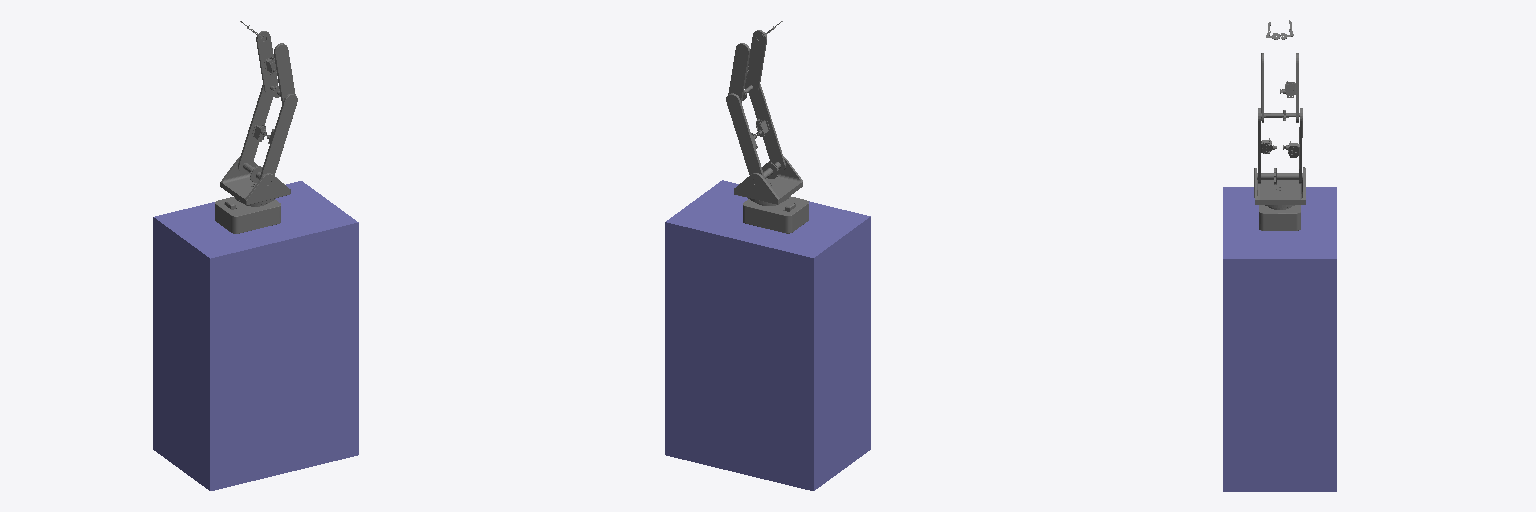
The robot description file, URDF, robot "four_dof_manipulator":
<?xml version="1.0" encoding="utf-8"?>

<robot name="four_dof_manipulator">
  
  <!--Fixed the table to the ground(world)-->
  <link name="world" />

  <!-- Table -->
  <link name="table">
    <visual>
      <origin rpy="0 0 0" xyz="0 -0.2 0"/>
      <geometry>
        <box size="0.6 0.4 0.9"/>
      </geometry>
      <material name="grey">
        <color rgba="0.5 0.5 0.75 1"/>
      </material>
    </visual>
  </link>

  <!-- World-Table joint-->
  <joint name="fixed" type="fixed">
    <parent link="world"/>
    <child link="table"/>
    <origin xyz="0.0 0.0 0.450" rpy="0.0 0.0 0.0" />
  </joint>

  <link name="base_link">
    <inertial>
      <origin
        xyz="-0.0330941580739677 -0.199915714499144 -0.0238474252824564"
        rpy="0 0 0" />
      <mass
        value="1.21592569506171" />
      <inertia
        ixx="0.00319394143397767"
        ixy="6.50916537053405E-06"
        ixz="5.00849983752122E-05"
        iyy="0.00517355396442031"
        iyz="-2.59154797593509E-06"
        izz="0.00752990865416603" />
    </inertial>
    <visual>
      <origin
        xyz="0 0 0"
        rpy="0 0 0" />
      <geometry>
        <mesh
          filename="package://four_dof_manipulator/meshes/base_link.STL" />
      </geometry>
      <material
        name="">
        <color
          rgba="0.5 0.5 0.5 1" />
      </material>
    </visual>
    <collision>
      <origin
        xyz="0 0 0"
        rpy="0 0 0" />
      <geometry>
        <mesh
          filename="package://four_dof_manipulator/meshes/base_link.STL" />
      </geometry>
    </collision>
  </link>
  
  <!--Table-Base Joint-->
  <joint name="table_joint" type="fixed">
    <parent link="table"/>
    <child link="base_link"/>
    <origin xyz="0.0 0.0 0.518" rpy="0.0 0.0 0.0" />
  </joint>
  
  <!--joint name="fixed_joint" type="fixed">
    <parent link="world"/>
    <child link="base_link"/>
    <origin xyz="0.0 0.0 0.518" rpy="0.0 0.0 0.0" />
  </joint-->

  <link
    name="first_link">
    <inertial>
      <origin
        xyz="-7.33788030338189E-16 5.55111512312578E-17 -0.0544923827293373"
        rpy="0 0 0" />
      <mass
        value="1.20713988278658" />
      <inertia
        ixx="0.00387509235916713"
        ixy="1.0875136639203E-10"
        ixz="2.90490271371626E-17"
        iyy="0.00304586202042799"
        iyz="2.15933858679175E-18"
        izz="0.00589439778201493" />
    </inertial>
    <visual>
      <origin
        xyz="0 0 0"
        rpy="0 0 0" />
      <geometry>
        <mesh
          filename="package://four_dof_manipulator/meshes/first_link.STL" />
      </geometry>
      <material
        name="">
        <color
          rgba="0.5 0.5 0.5 1" />
      </material>
    </visual>
    <collision>
      <origin
        xyz="0 0 0"
        rpy="0 0 0" />
      <geometry>
        <mesh
          filename="package://four_dof_manipulator/meshes/first_link.STL" />
      </geometry>
    </collision>
  </link>
  
  <joint
    name="joint_1"
    type="revolute">
    <origin
      xyz="-0.00208795693759905 -0.199999999999975 -0.00419080295344085"
      rpy="-3.14159265358979 0 0.0110713534620342" />
    <parent
      link="base_link" />
    <child
      link="first_link" />
    <axis
      xyz="0 0 -1" />
    <limit
      lower="-1.5707963268"
      upper="1.5707963268"
      effort="500"
      velocity="2" />
  </joint>
  <transmission name="tran1">
    <type>transmission_interface/SimpleTransmission</type>
    <joint name="joint_1">
      <hardwareInterface>PositionJointInterface</hardwareInterface>
    </joint>
    <actuator name="motor1">
      <hardwareInterface>PositionJointInterface</hardwareInterface>
      <mechanicalReduction>1</mechanicalReduction>
    </actuator>
  </transmission>
  
  <link
    name="second_link">
    <inertial>
      <origin
        xyz="0.122656869389677 -0.000401462272982094 0.0686321634800344"
        rpy="0 0 0" />
      <mass
        value="0.564197355185099" />
      <inertia
        ixx="0.00247734722871887"
        ixy="4.32451514645994E-06"
        ixz="1.43966218295339E-06"
        iyy="0.00767638543625201"
        iyz="-1.39190385070749E-07"
        izz="0.0053992835651082" />
    </inertial>
    <visual>
      <origin
        xyz="0 0 0"
        rpy="0 0 0" />
      <geometry>
        <mesh
          filename="package://four_dof_manipulator/meshes/second_link.STL" />
      </geometry>
      <material
        name="">
        <color
          rgba="0.5 0.5 0.5 1" />
      </material>
    </visual>
    <collision>
      <origin
        xyz="0 0 0"
        rpy="0 0 0" />
      <geometry>
        <mesh
          filename="package://four_dof_manipulator/meshes/second_link.STL" />
      </geometry>
    </collision>
  </link>
  
  <joint
    name="joint_2"
    type="revolute">
    <origin
      xyz="0 -0.0680000000000001 -0.117000000000003"
      rpy="-1.5707963267949 1.23097997933017 0" />
    <parent
      link="first_link" />
    <child
      link="second_link" />
    <axis
      xyz="0 0 1" />
    <limit
      lower="-1.2217304764"
      upper="1.9198621772"
      effort="500"
      velocity="2" />
  </joint>
  <transmission name="tran2">
    <type>transmission_interface/SimpleTransmission</type>
    <joint name="joint_2">
      <hardwareInterface>PositionJointInterface</hardwareInterface>
    </joint>
    <actuator name="motor2">
      <hardwareInterface>PositionJointInterface</hardwareInterface>
      <mechanicalReduction>1</mechanicalReduction>
    </actuator>
  </transmission>


  <link
    name="third_link">
    <inertial>
      <origin
        xyz="0.089483369514526 0.000333185437360051 0.0616705943939753"
        rpy="0 0 0" />
      <mass
        value="0.341491453338833" />
      <inertia
        ixx="0.0011223536458998"
        ixy="-8.94838519701279E-07"
        ixz="4.50772424468417E-07"
        iyy="0.00260413334203537"
        iyz="-3.46258625510181E-06"
        izz="0.00161078736660313" />
    </inertial>
    <visual>
      <origin
        xyz="0 0 0"
        rpy="0 0 0" />
      <geometry>
        <mesh
          filename="package://four_dof_manipulator/meshes/third_link.STL" />
      </geometry>
      <material
        name="">
        <color
          rgba="0.5 0.5 0.5 1" />
      </material>
    </visual>
    <collision>
      <origin
        xyz="0 0 0"
        rpy="0 0 0" />
      <geometry>
        <mesh
          filename="package://four_dof_manipulator/meshes/third_link.STL" />
      </geometry>
    </collision>
  </link>
  
  <joint
    name="joint_3"
    type="revolute">
    <origin
      xyz="0.3 0 0.124"
      rpy="-3.1416 0 -1.5068" />
    <parent
      link="second_link" />
    <child
      link="third_link" />
    <axis
      xyz="0 0 -1" />
    <limit
      lower="-6.2831853072"
      upper="-2.2689280276"
      effort="500"
      velocity="2" />
  </joint>
  <transmission name="tran3">
    <type>transmission_interface/SimpleTransmission</type>
    <joint name="joint_3">
      <hardwareInterface>PositionJointInterface</hardwareInterface>
    </joint>
    <actuator name="motor3">
      <hardwareInterface>PositionJointInterface</hardwareInterface>
      <mechanicalReduction>1</mechanicalReduction>
    </actuator>
  </transmission>

  <link
    name="fourth_link">
    <inertial>
      <origin
        xyz="-0.0560452574719653 -0.00176057766334337 0.032176511601107"
        rpy="0 0 0" />
      <mass
        value="0.114529356723246" />
      <inertia
        ixx="0.000111734436978805"
        ixy="4.99245419880645E-07"
        ixz="-2.76231736304427E-06"
        iyy="0.00022500515976646"
        iyz="8.28933809672081E-06"
        izz="0.000134457409408795" />
    </inertial>
    <visual>
      <origin
        xyz="0 0 0"
        rpy="0 0 0" />
      <geometry>
        <mesh
          filename="package://four_dof_manipulator/meshes/fourth_link.STL" />
      </geometry>
      <material
        name="">
        <color
          rgba="0.5 0.5 0.5 1" />
      </material>
    </visual>
    <collision>
      <origin
        xyz="0 0 0"
        rpy="0 0 0" />
      <geometry>
        <mesh
          filename="package://four_dof_manipulator/meshes/fourth_link.STL" />
      </geometry>
    </collision>
  </link>
  
  <joint
    name="joint_4"
    type="revolute">
    <origin
      xyz="0.2 0 0"
      rpy="0.645832947767902 1.5707963267949 0" />
    <parent
      link="third_link" />
    <child
      link="fourth_link" />
    <axis
      xyz="1 0 0" />
    <limit
      lower="-2.4434609528"
      upper="0.6981317008"
      effort="500"
      velocity="2" />
  </joint>
  <transmission name="tran4">
    <type>transmission_interface/SimpleTransmission</type>
    <joint name="joint_4">
      <hardwareInterface>PositionJointInterface</hardwareInterface>
    </joint>
    <actuator name="motor4">
      <hardwareInterface>PositionJointInterface</hardwareInterface>
      <mechanicalReduction>1</mechanicalReduction>
    </actuator>
  </transmission>

  <link
    name="finger_1">
    <inertial>
      <origin
        xyz="0.00282720923007229 -0.0089833380786894 -0.013398634163815"
        rpy="0 0 0" />
      <mass
        value="0.00371707887588344" />
      <inertia
        ixx="1.64310670558568E-06"
        ixy="5.58574550305456E-08"
        ixz="5.5107391747783E-08"
        iyy="6.80812992057786E-07"
        iyz="-2.48704436102216E-07"
        izz="9.91223946918196E-07" />
    </inertial>
    <visual>
      <origin
        xyz="0 0 0"
        rpy="0 0 0" />
      <geometry>
        <mesh
          filename="package://four_dof_manipulator/meshes/finger_1.STL" />
      </geometry>
      <material
        name="">
        <color
          rgba="0.5 0.5 0.5 1" />
      </material>
    </visual>
    <collision>
      <origin
        xyz="0 0 0"
        rpy="0 0 0" />
      <geometry>
        <mesh
          filename="package://four_dof_manipulator/meshes/finger_1.STL" />
      </geometry>
    </collision>
  </link>
  
  <joint
    name="finger1"
    type="revolute">
    <origin
      xyz="-0.0425 -0.006 0.092879"
      rpy="-1.4841 0 1.5708" />
    <parent
      link="fourth_link" />
    <child
      link="finger_1" />
    <axis
      xyz="1 0 0" />
    <limit
      lower="-0.3"
      upper="0.3"
      effort="500"
      velocity="2" />
  </joint>
  <transmission name="tran5">
    <type>transmission_interface/SimpleTransmission</type>
    <joint name="finger1">
      <hardwareInterface>PositionJointInterface</hardwareInterface>
    </joint>
    <actuator name="motor5">
      <hardwareInterface>PositionJointInterface</hardwareInterface>
      <mechanicalReduction>1</mechanicalReduction>
    </actuator>
  </transmission>
  
  <link
    name="finger_2">
    <inertial>
      <origin
        xyz="0.00289148529339028 0.0121811563371869 -0.0146481318195793"
        rpy="0 0 0" />
      <mass
        value="0.00354537803339804" />
      <inertia
        ixx="1.74994302714652E-06"
        ixy="-6.22948659843265E-08"
        ixz="5.59005929626654E-08"
        iyy="6.71188757891809E-07"
        iyz="3.71484217485297E-07"
        izz="1.10679275985386E-06" />
    </inertial>
    <visual>
      <origin
        xyz="0 0 0"
        rpy="0 0 0" />
      <geometry>
        <mesh
          filename="package://four_dof_manipulator/meshes/finger_2.STL" />
      </geometry>
      <material
        name="">
        <color
          rgba="0.5 0.5 0.5 1" />
      </material>
    </visual>
    <collision>
      <origin
        xyz="0 0 0"
        rpy="0 0 0" />
      <geometry>
        <mesh
          filename="package://four_dof_manipulator/meshes/finger_2.STL" />
      </geometry>
    </collision>
  </link>
  
  <joint
    name="finger2"
    type="revolute">
    <origin
      xyz="-0.0695 -0.006 0.092879"
      rpy="1.5656 0 1.5708" />
    <parent
      link="fourth_link" />
    <child
      link="finger_2" />
    <axis
      xyz="1 0 0" />
    <limit
      lower="0"
      upper="0.6"
      effort="500"
      velocity="2" />
  </joint>
  <transmission name="tran6">
    <type>transmission_interface/SimpleTransmission</type>
    <joint name="finger2">
      <hardwareInterface>PositionJointInterface</hardwareInterface>
    </joint>
    <actuator name="motor6">
      <hardwareInterface>PositionJointInterface</hardwareInterface>
      <mechanicalReduction>1</mechanicalReduction>
    </actuator>
  </transmission>

  <!--Gazebo simulator part-->
  <gazebo>
    <plugin name="control" filename="libgazebo_ros_control.so"/>
    <plugin name="joint_state_publisher" filename="libgazebo_ros_joint_state_publisher.so">
      <jointname>joint_1,joint_2,joint_3,joint_4,finger1,finger2</jointname>
    </plugin>
  </gazebo>

</robot>

--- What the picture shows (computed from the rendered views, not written in the file) ---
3 views of the same robot in one strip: view 1: azimuth 30°, elevation 25°; view 2: azimuth 150°, elevation 25°; view 3: azimuth 270°, elevation 25° (orthographic).
Model four_dof_manipulator with 9 links and 8 joints (6 revolute, 2 fixed), rooted at world, posed all joints at 0 but 1 set to mid-range because 0 is outside their limits (joint_3 = -4.28).
Links seen in each view (by area): view 1: table, second_link, base_link, third_link, first_link; view 2: table, second_link, base_link, third_link, first_link; view 3: table, first_link, second_link, base_link, third_link.
Boxes of the visible links, x1,y1,x2,y2 form: table: (153,181,358,490); second_link: (238,85,297,184); base_link: (215,197,280,233); third_link: (256,31,295,103); first_link: (220,157,290,206); table: (665,180,870,490); second_link: (726,84,785,184); base_link: (743,196,808,233); third_link: (728,30,766,102); first_link: (734,156,802,205); table: (1223,187,1336,491); first_link: (1254,167,1305,209); second_link: (1257,108,1302,184); base_link: (1259,205,1300,230); third_link: (1261,53,1299,122).
Size in the robot's own frame: 0.6 by 0.4 by 1.67 metres.
6 mesh visuals loaded from 7 distinct referenced files (6 binary STL); not drawn: 1 (reference not matched to a file when rendering).